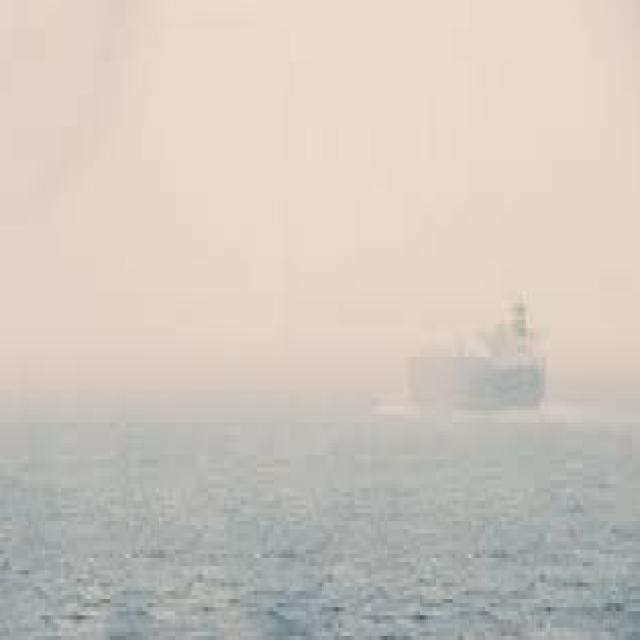cargoship: (411, 296, 550, 408)
